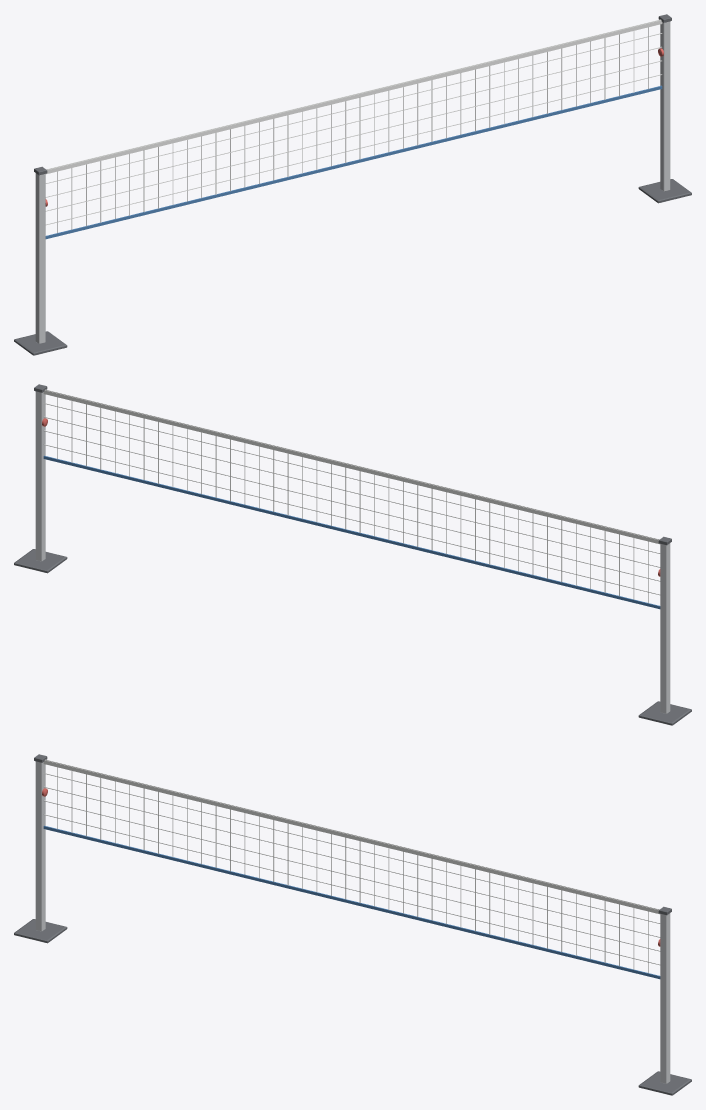
File: community-sports-hall-and-changing-rooms-volleyball-po-bc30ef3d__35093.glb
The picture shows the model from 3 angles, top to bottom: view 1: azimuth 30°, elevation 25°; view 2: azimuth 150°, elevation 25°; view 3: azimuth 330°, elevation 25°; orthographic projection.
Parts seen in each view (by area): view 1: volleyball-post-pair; view 2: volleyball-post-pair; view 3: volleyball-post-pair.
Boxes of the visible parts, x1,y1,x2,y2 form: volleyball-post-pair: (14,14,691,355); volleyball-post-pair: (14,384,691,725); volleyball-post-pair: (14,754,691,1095).
Bounding box in the file's own units: 10.02 × 2.55 × 0.5199.
